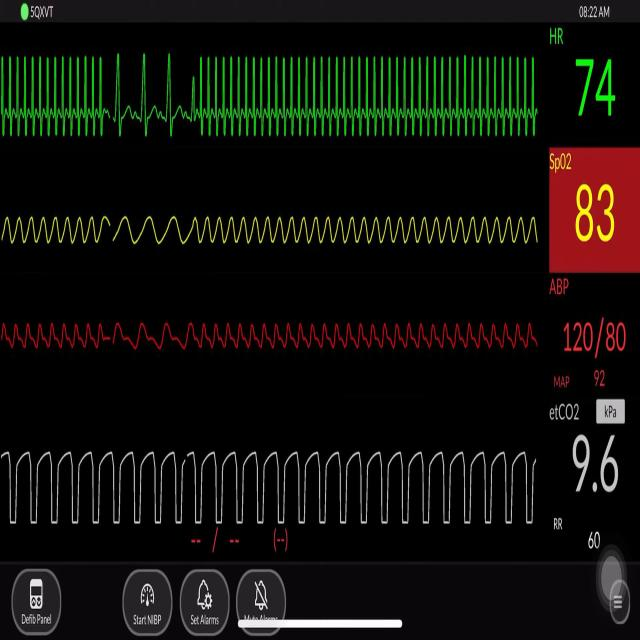danger: (190, 40, 547, 155), (8, 36, 110, 155)
